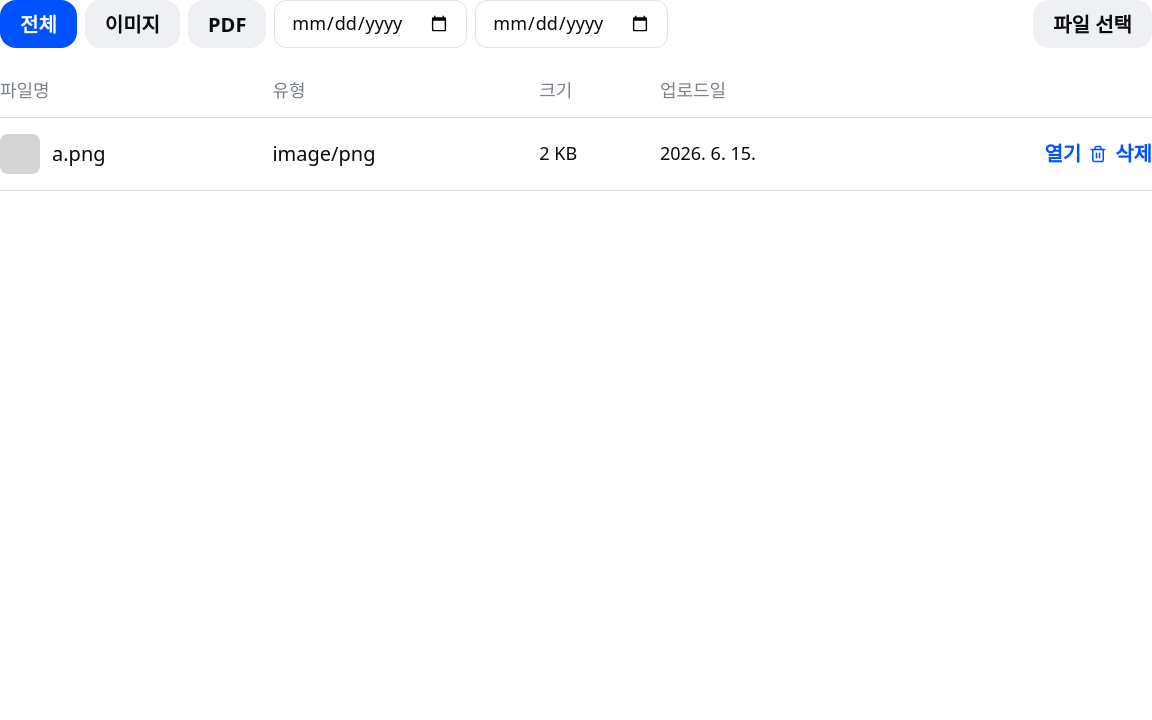
Test: MediaLibrary › 사용 중이면 references 다이얼로그를 띄우고 삭제하지 않는다
expect the text "a.png" is shown: met, box x1=52 y1=137 x2=106 y2=171
What coordinates should you click on to do the following:
click the button with aria-label "a.png 삭제"
I would click on:
 (1121, 154)
Its box is x1=1089 y1=142 x2=1151 y2=165.
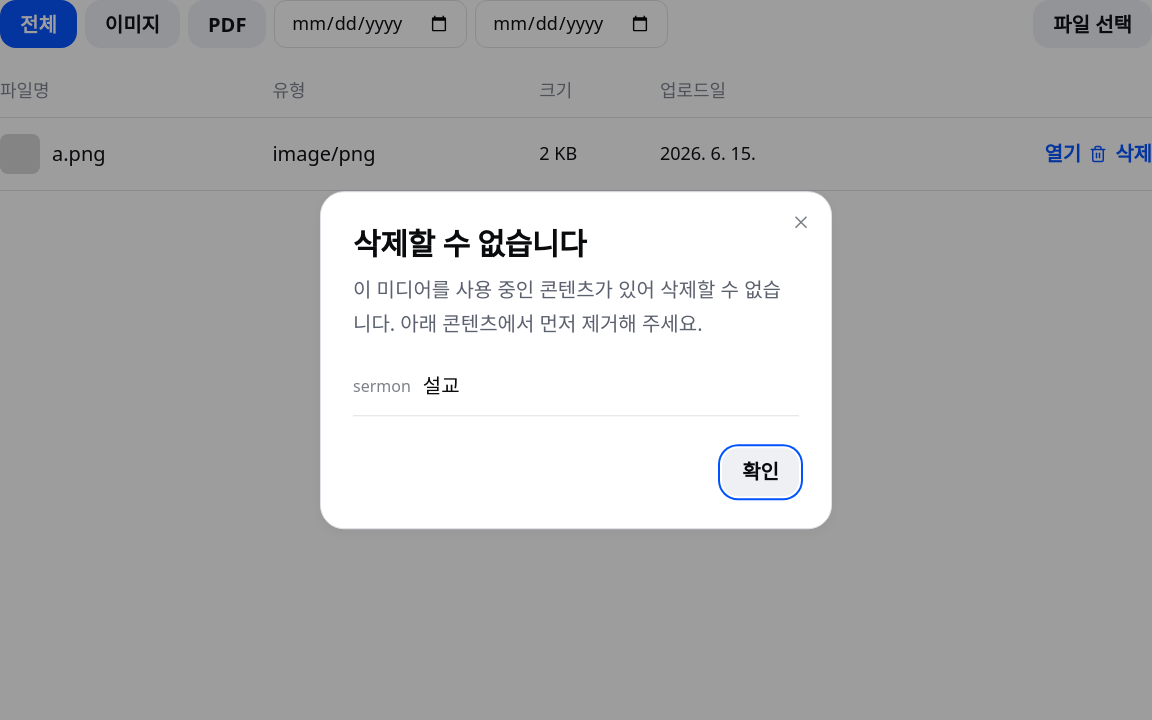
expect the heading "삭제할 수 없습니다" is shown: met, box x1=353 y1=223 x2=586 y2=264
